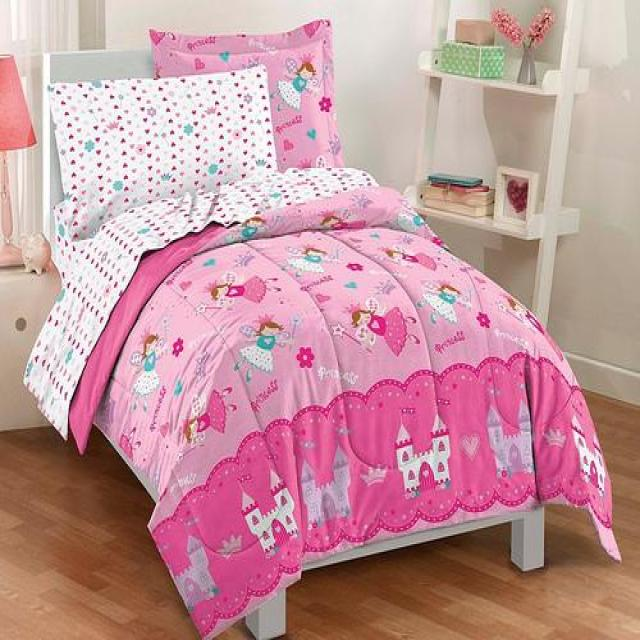bed: (24, 44, 621, 638)
